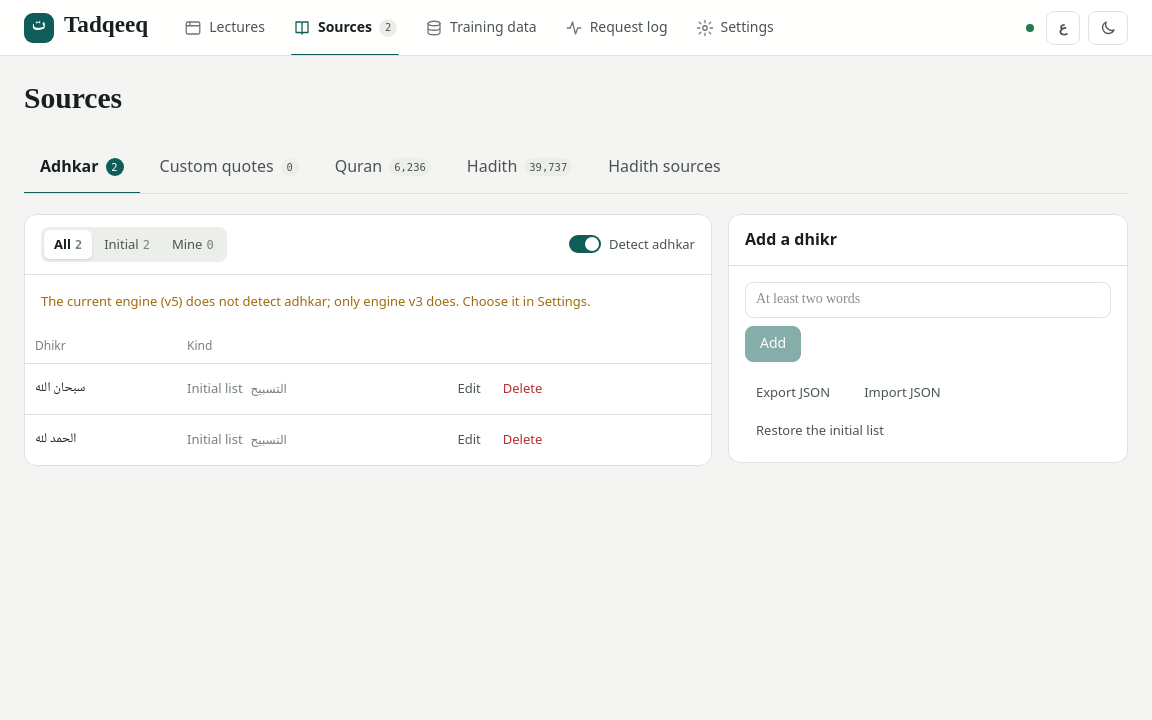
Test case: the adhkar are ordinary rows: add one, delete an initial one (F-073, F-077)
Check: the number of rows with test id "dhikr-row" is 2, box [25, 363, 711, 414]; [25, 414, 711, 465]
Check: the text with test id "corpora-count-adhkar" reads "2", box [111, 161, 118, 173]
Type "لا إله" into the field with test id "dhikr-new".
click(928, 300); type("لا إله")  # box [745, 282, 1111, 318]
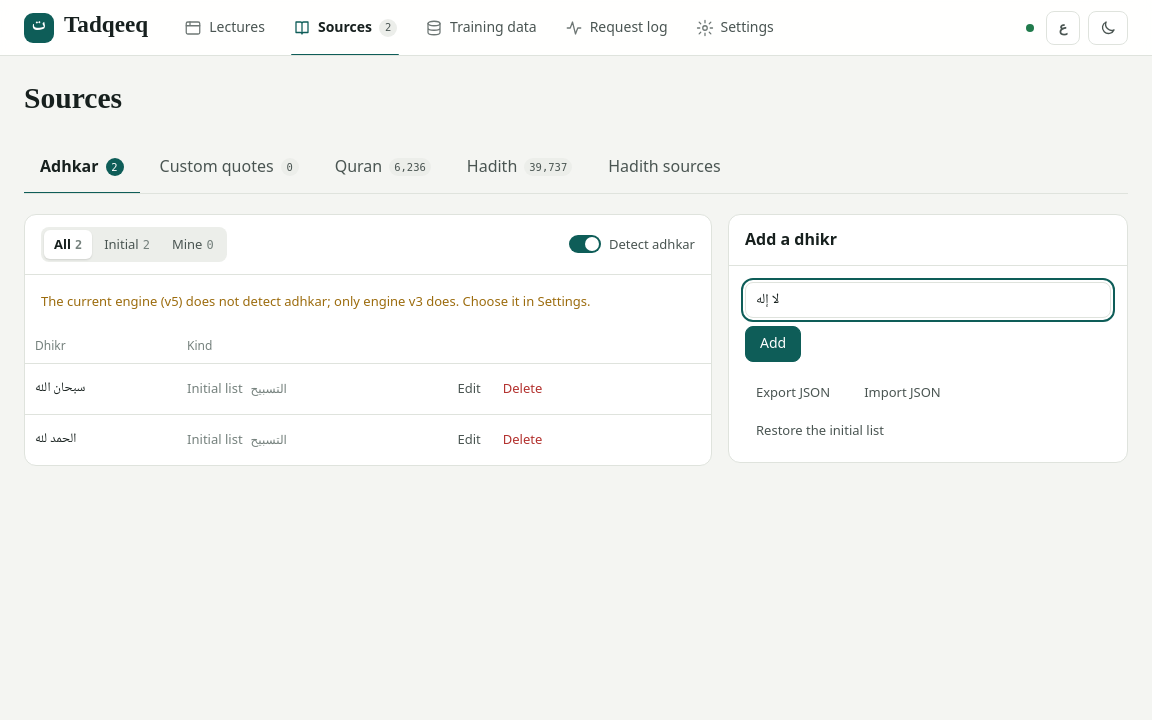
Click the button with test id "dhikr-add".
click(773, 344)  # box [745, 326, 801, 362]
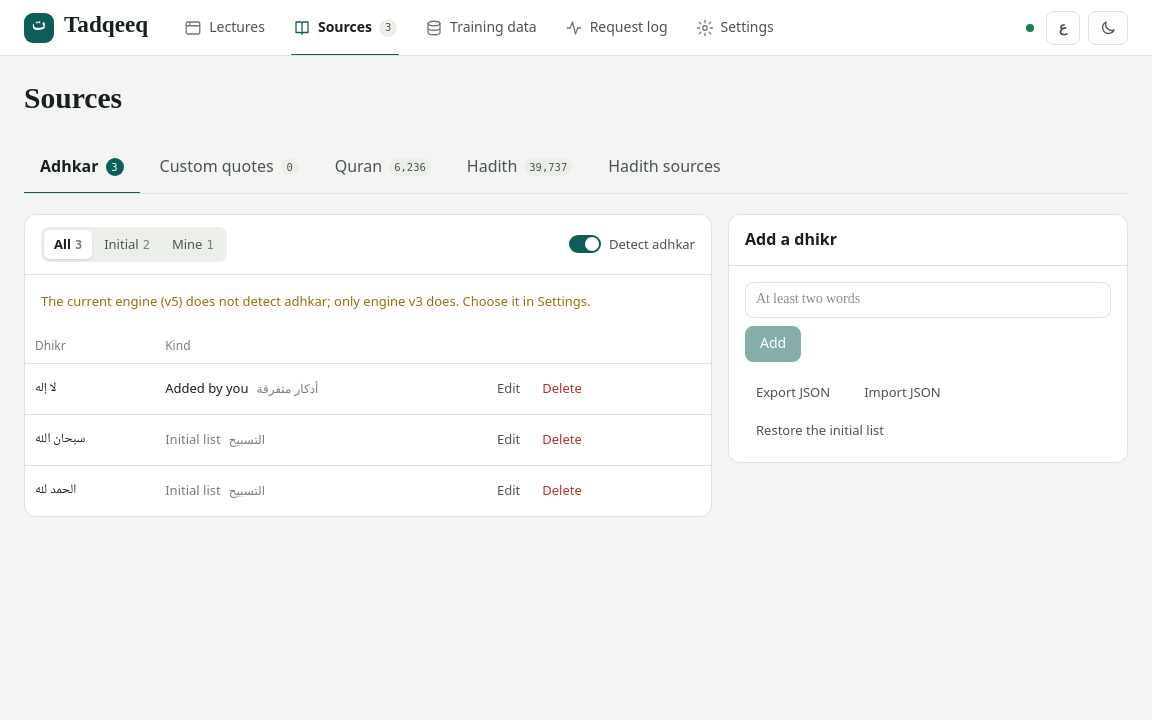
Check: the number of rows with test id "dhikr-row" is 3, box [25, 363, 711, 414]; [25, 414, 711, 465]; [25, 465, 711, 516]
Check: the row with test id "dhikr-row" shows "Added by you", box [165, 379, 248, 397]
Click the button with aria-label "Delete سبحان الله".
click(562, 440)  # box [531, 425, 593, 455]
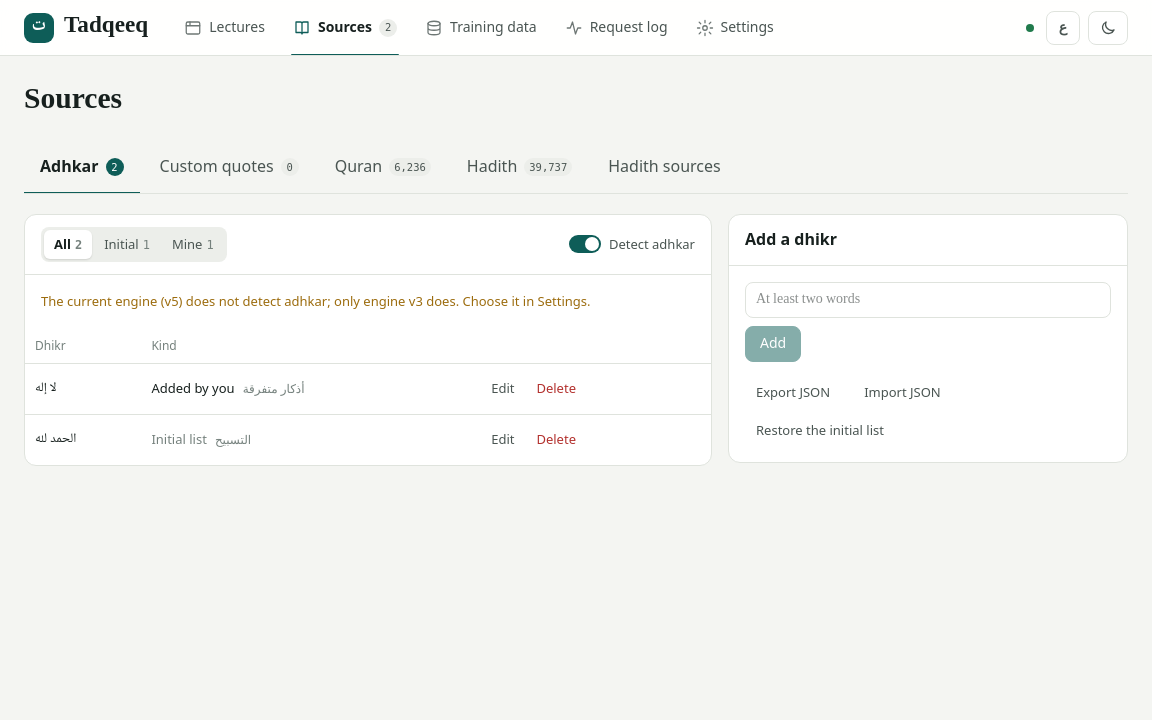
Check: the number of rows with test id "dhikr-row" is 2, box [25, 363, 711, 414]; [25, 414, 711, 465]
